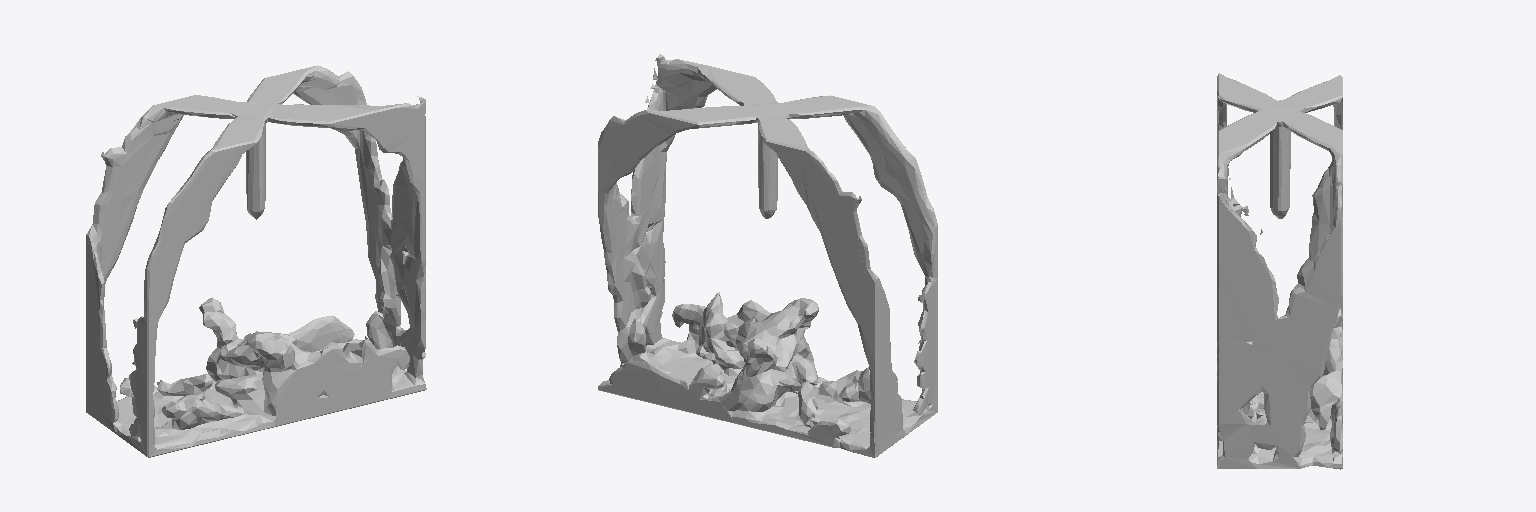
3 views of the same model, side by side, from view 1: azimuth 30°, elevation 25°; view 2: azimuth 150°, elevation 25°; view 3: azimuth 270°, elevation 25° (orthographic).
Parts seen in each view (by area): view 1: Liquid_Domain; view 2: Liquid_Domain; view 3: Liquid_Domain.
Boxes of the visible parts, <box> form: Liquid_Domain: <box>86,65,426,457</box>; Liquid_Domain: <box>598,54,937,457</box>; Liquid_Domain: <box>1217,73,1342,469</box>.
Size of the model in its own units: 884 by 884 by 345.